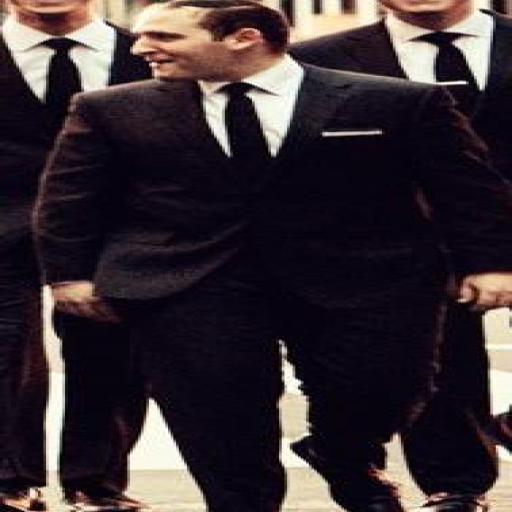person: (36, 0, 511, 511), (0, 0, 148, 510), (293, 0, 511, 178)
